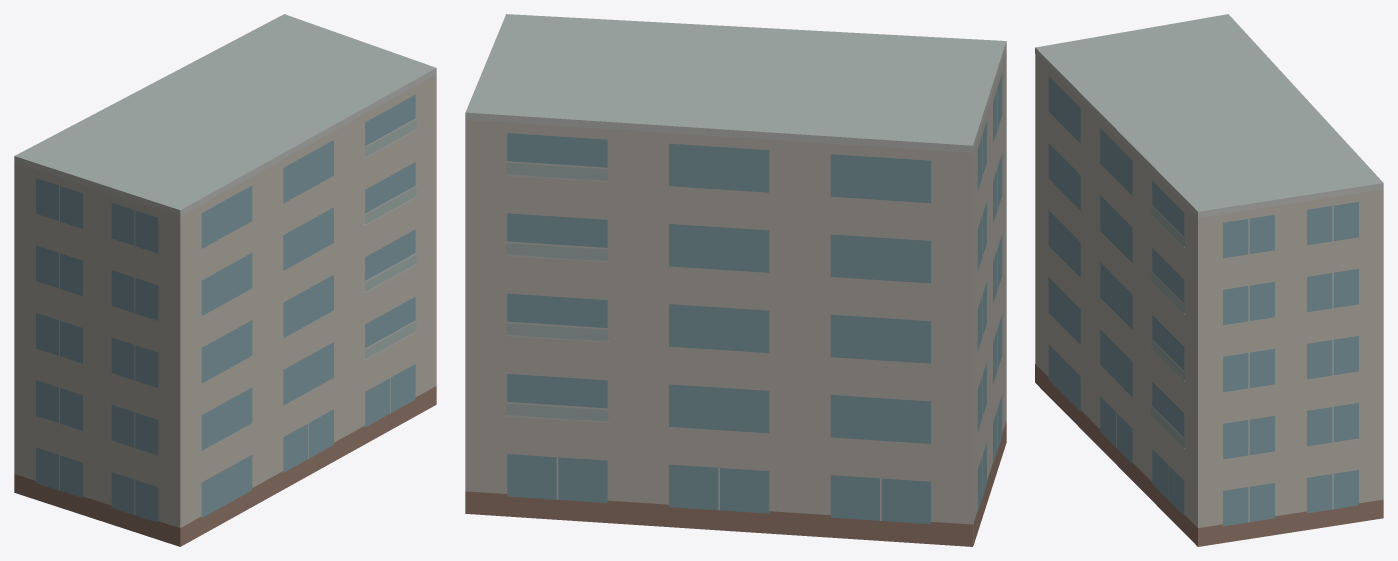
Rendered from survey-upis-32588752.glb.
3 views of the same model, side by side, from view 1: azimuth 30°, elevation 25°; view 2: azimuth 150°, elevation 25°; view 3: azimuth 270°, elevation 25° (orthographic). The views are drawn at different scales.
Parts seen in each view (by area): view 1: survey-upis-32588752.tmp; view 2: survey-upis-32588752.tmp; view 3: survey-upis-32588752.tmp.
Boxes of the visible parts, <box> form: survey-upis-32588752.tmp: <box>14,14,436,546</box>; survey-upis-32588752.tmp: <box>465,14,1006,546</box>; survey-upis-32588752.tmp: <box>1035,14,1383,546</box>.
Bounding box in the file's own units: 17.15 × 13.55 × 12.78.
